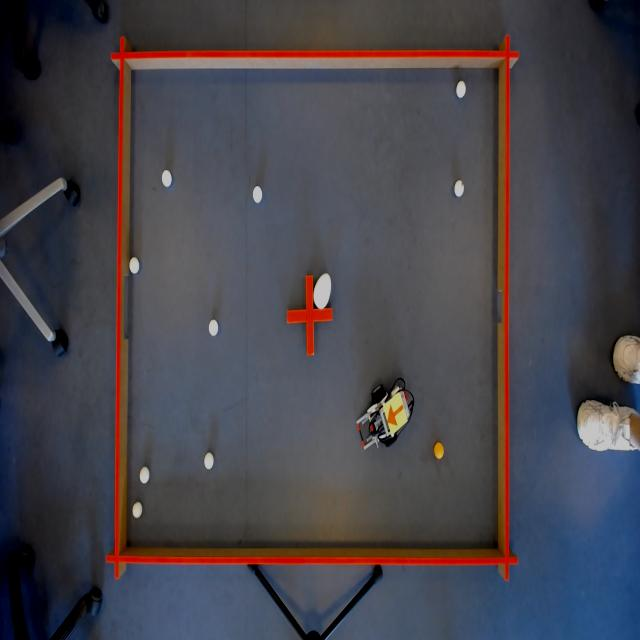cross: (286, 272, 335, 359)
egg: (312, 270, 332, 310)
orange_ball: (433, 439, 445, 461)
robot: (381, 392, 410, 440)
white_ball: (138, 463, 151, 489), (202, 449, 216, 472), (128, 254, 141, 278), (251, 184, 264, 206), (131, 499, 143, 521), (161, 167, 173, 189), (455, 78, 467, 100), (454, 179, 466, 200), (208, 316, 219, 338)
